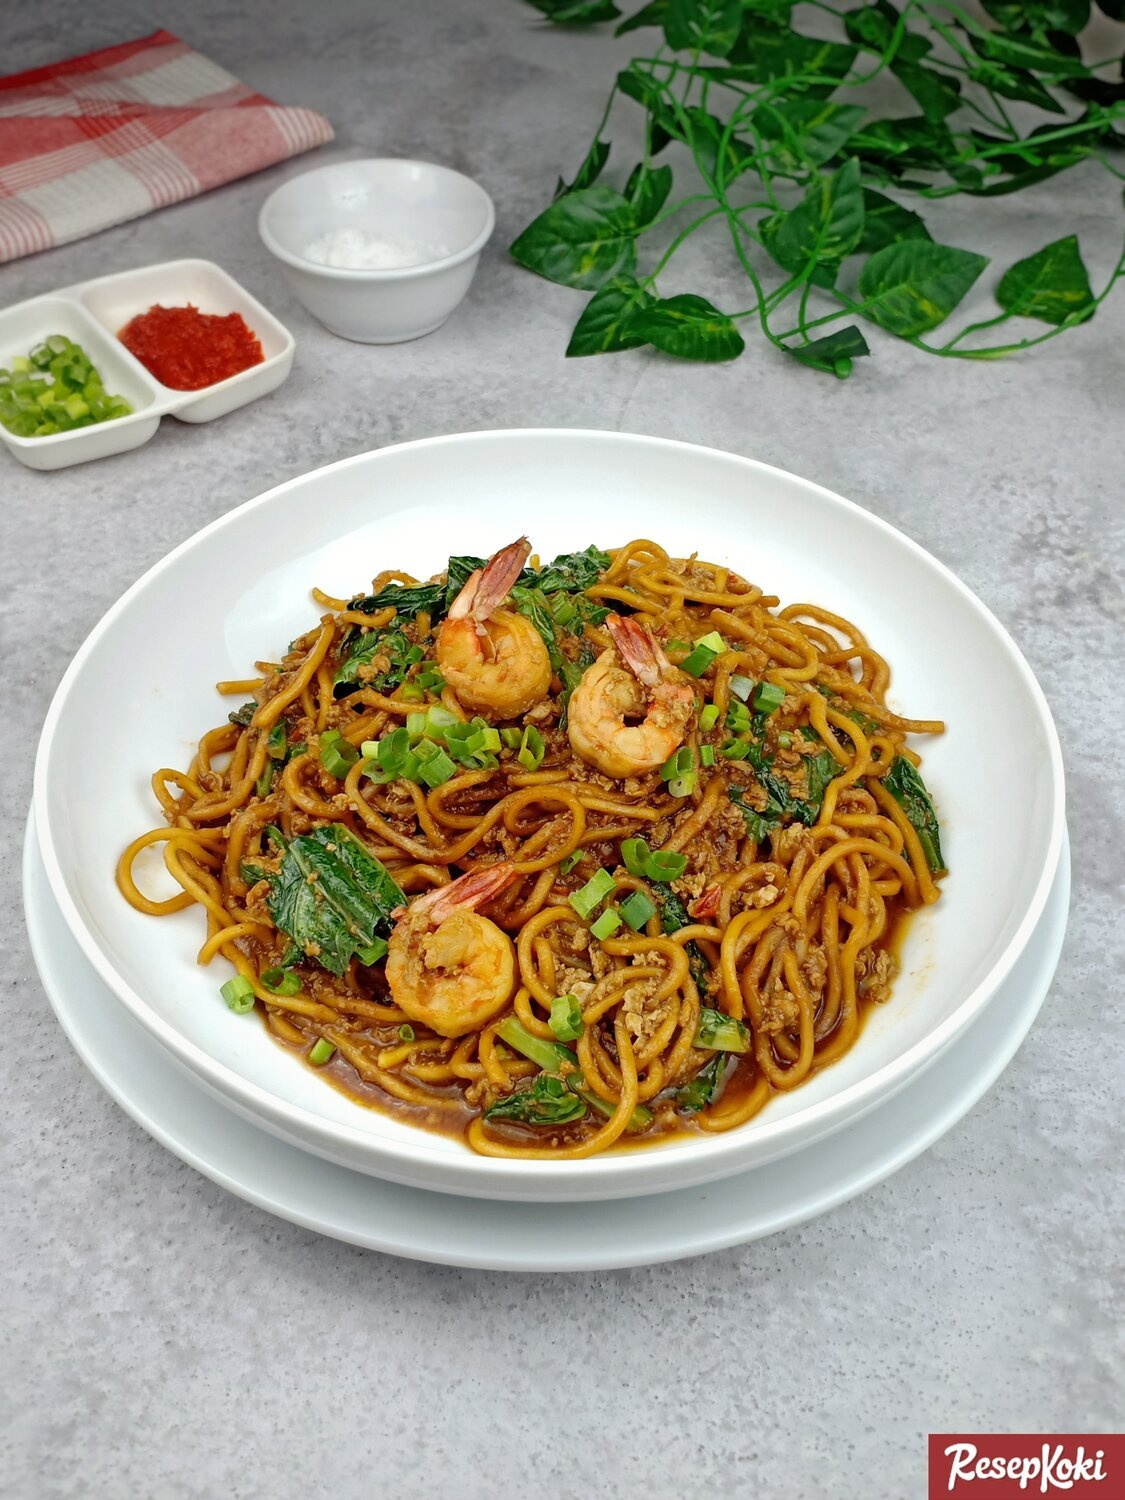Mie: (217, 557, 936, 1157)
